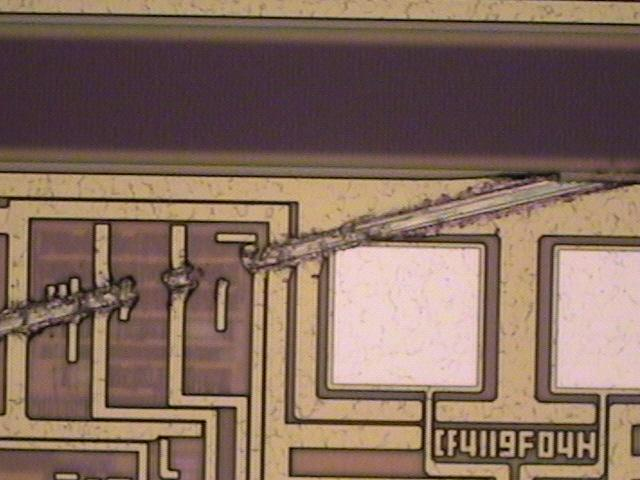SCRATCH: (1, 146, 640, 348)
